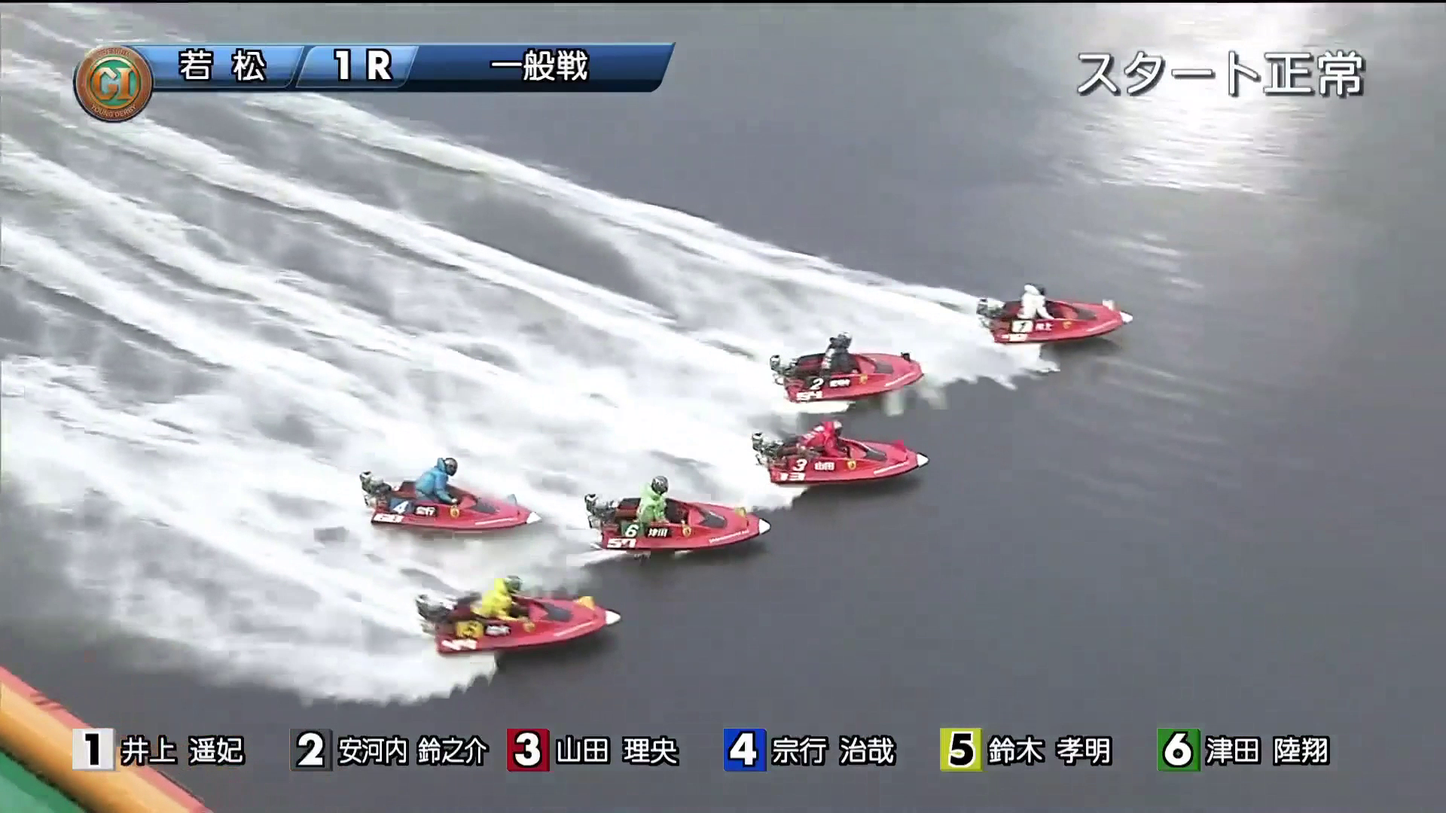１号艇: (999, 291, 1137, 345)
２号艇: (783, 338, 912, 398)
３号艇: (791, 430, 932, 475)
４号艇: (612, 489, 732, 554)
５号艇: (373, 485, 496, 540)
６号艇: (498, 604, 597, 661)
